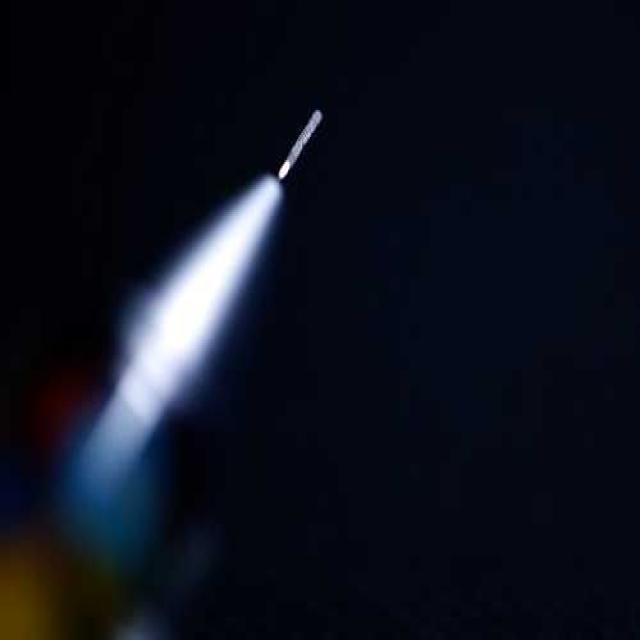missile: (278, 107, 322, 191)
